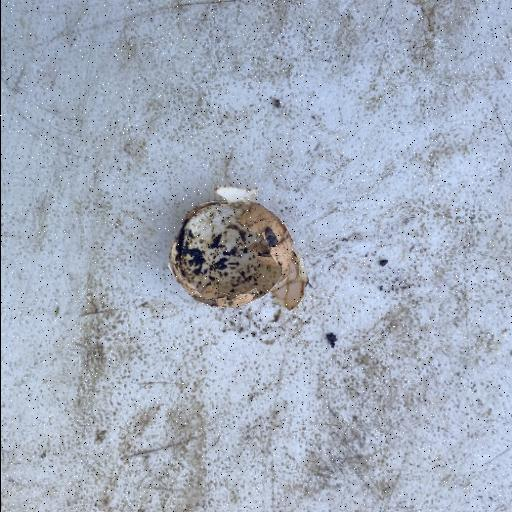Waste: (166, 184, 308, 310)
